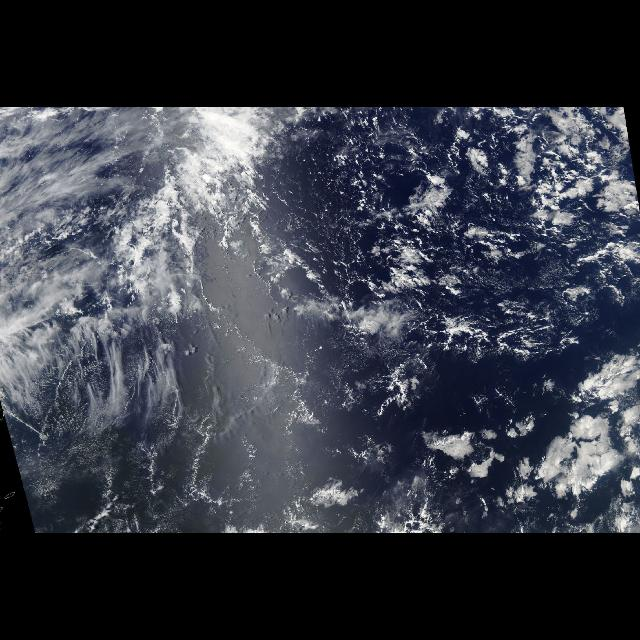Flower: (420, 355, 640, 533)
Gravel: (232, 114, 564, 384)
